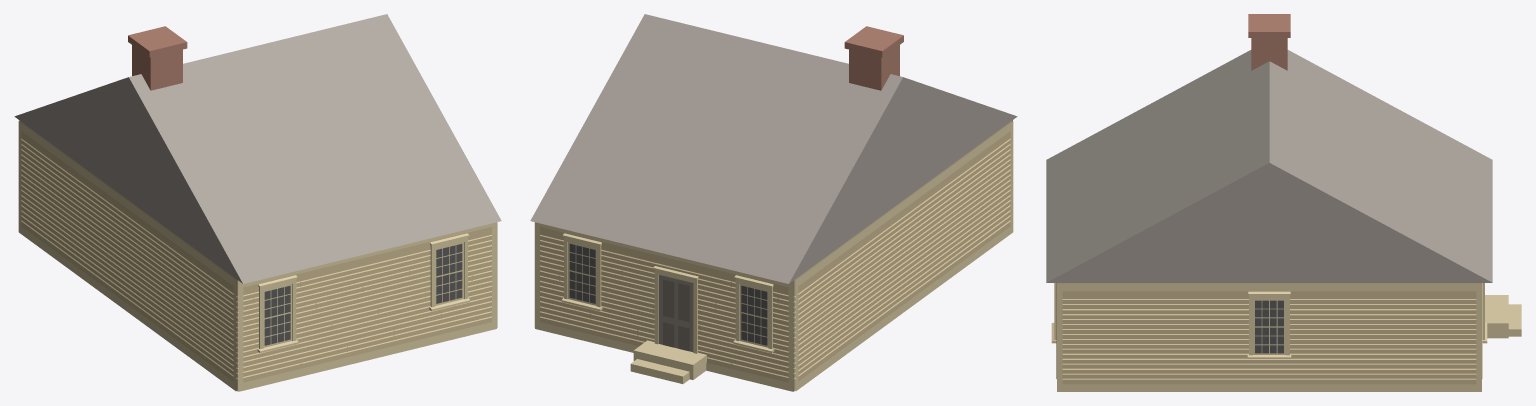
File: recon_1835_north_d5_041__inferred_1835.glb
3 views of the same model, side by side, from view 1: azimuth 30°, elevation 25°; view 2: azimuth 150°, elevation 25°; view 3: azimuth 270°, elevation 25° (orthographic). The views are drawn at different scales.
Parts seen in each view (by area): view 1: recon_1835_north_d5_041__inferred_1835; view 2: recon_1835_north_d5_041__inferred_1835; view 3: recon_1835_north_d5_041__inferred_1835.
Part boxes in pixels (<box>): recon_1835_north_d5_041__inferred_1835: <box>14,14,501,391</box>; recon_1835_north_d5_041__inferred_1835: <box>530,14,1017,391</box>; recon_1835_north_d5_041__inferred_1835: <box>1046,14,1521,391</box>.
Size of the model in its own units: 6.89 by 6.62 by 11.
